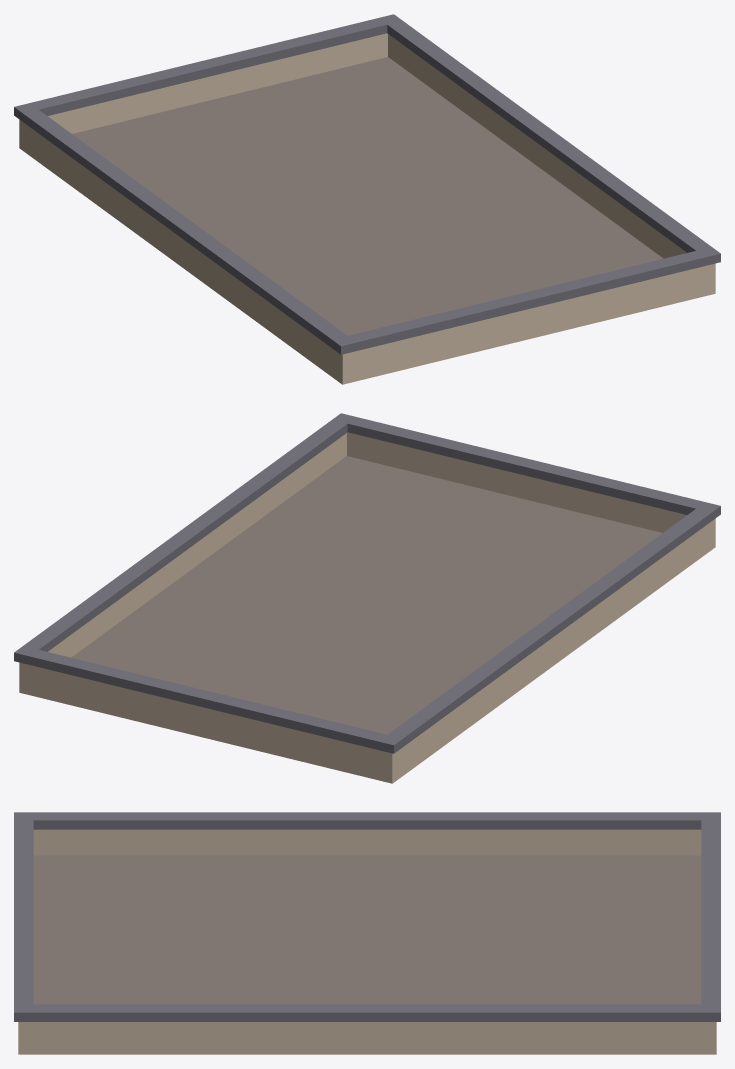
Rendered from SM_Roof_NarrowFlatPlain_Cream_546_01.gltf.
3 renders of one model, top to bottom at view 1: azimuth 30°, elevation 25°; view 2: azimuth 150°, elevation 25°; view 3: azimuth 270°, elevation 25°, orthographic. The views are drawn at different scales.
Parts seen in each view (by area): view 1: SM_Roof_NarrowFlatPlain_Cream_546_01; view 2: SM_Roof_NarrowFlatPlain_Cream_546_01; view 3: SM_Roof_NarrowFlatPlain_Cream_546_01.
Part boxes in pixels (<box>): SM_Roof_NarrowFlatPlain_Cream_546_01: <box>14,14,720,384</box>; SM_Roof_NarrowFlatPlain_Cream_546_01: <box>14,413,720,783</box>; SM_Roof_NarrowFlatPlain_Cream_546_01: <box>14,812,720,1054</box>.
Size of the model in its own units: 5.56 by 0.57 by 8.29.
1 material, 1 textured.
